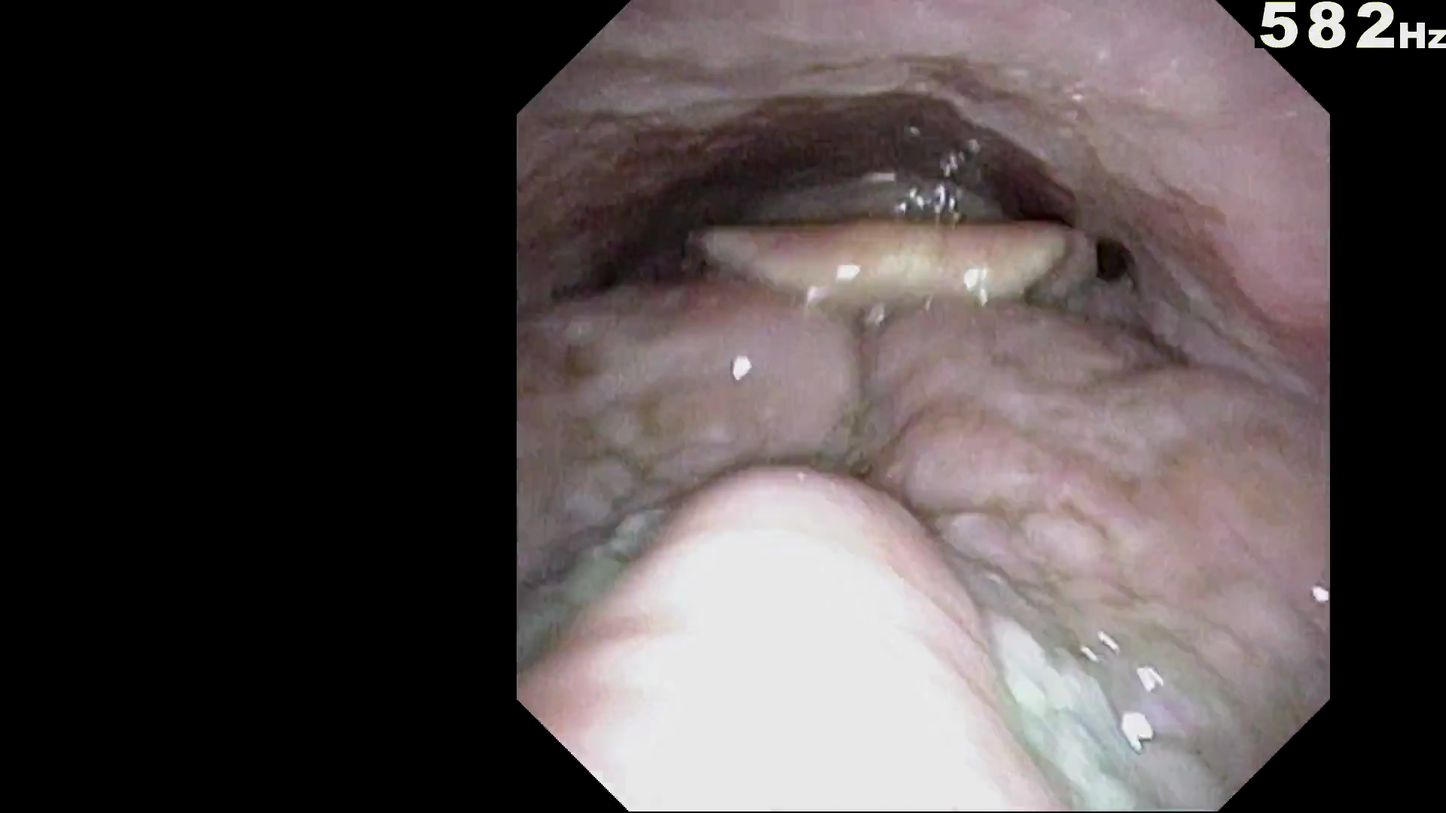epiglottis: (669, 273, 1153, 442)
trachea: (880, 330, 991, 453)
